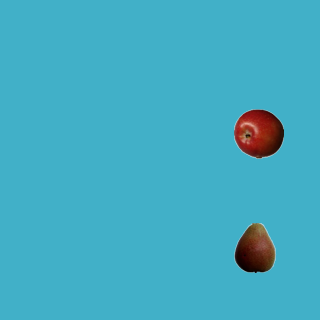Apple Braeburn: (233, 108, 283, 158)
Pear Forelle: (229, 222, 279, 272)
